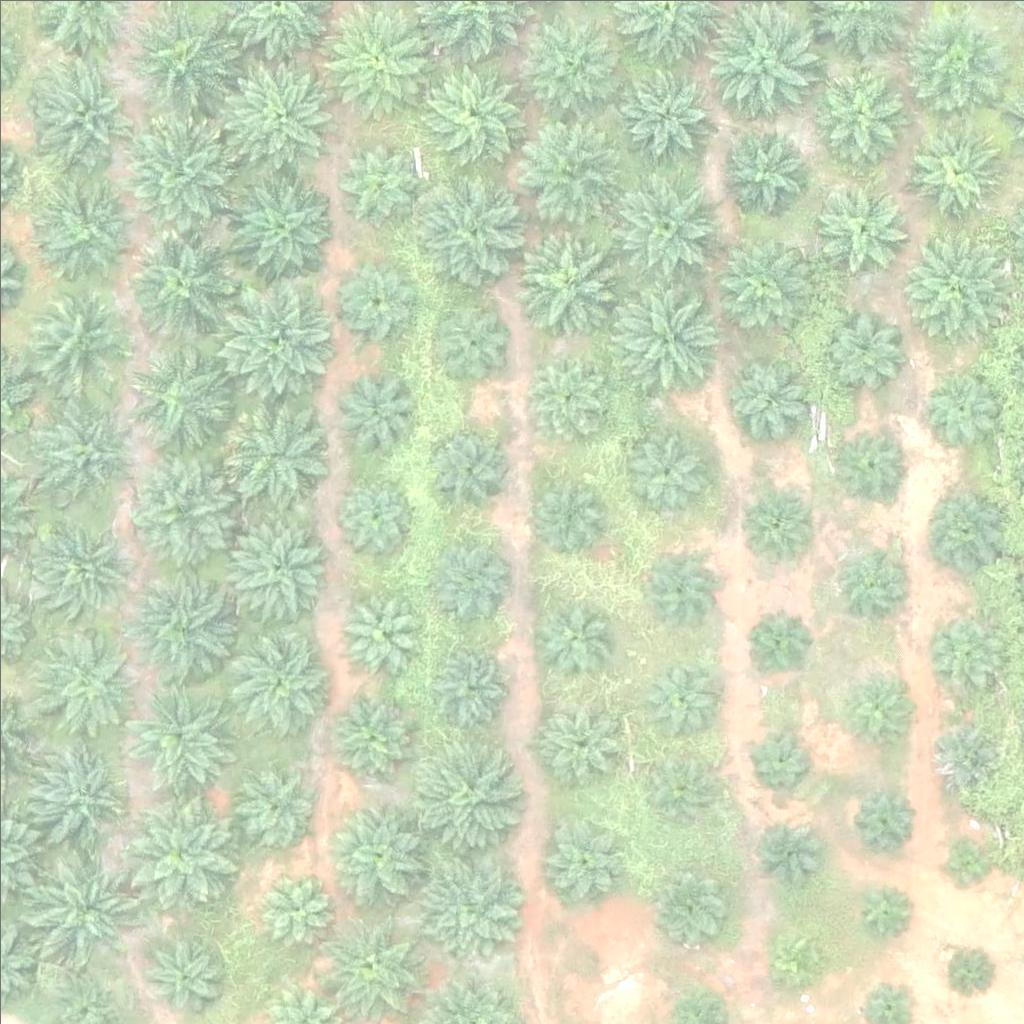Kelapa_Sawit: (11, 851, 136, 976), (408, 845, 521, 959), (402, 738, 515, 852), (121, 112, 234, 226), (221, 281, 334, 395), (121, 799, 234, 912), (116, 680, 229, 793), (122, 571, 235, 684), (222, 170, 335, 283), (224, 55, 337, 168), (512, 114, 625, 227), (611, 281, 724, 394), (611, 168, 724, 281), (123, 452, 235, 566), (28, 54, 140, 168), (120, 223, 232, 337), (220, 394, 332, 508), (23, 284, 135, 397), (322, 3, 434, 116), (415, 174, 527, 287), (413, 57, 525, 170), (514, 221, 626, 334), (322, 920, 422, 1021), (21, 745, 121, 846), (31, 630, 131, 731), (31, 509, 131, 610), (709, 233, 809, 334), (902, 236, 1002, 337), (322, 801, 422, 901), (225, 634, 325, 734), (222, 520, 322, 620), (28, 399, 128, 499), (31, 177, 131, 277), (132, 348, 232, 448), (804, 61, 904, 161), (900, 17, 1000, 117), (617, 423, 705, 512), (918, 484, 1006, 572), (521, 352, 609, 440), (716, 125, 804, 213), (821, 307, 909, 395), (817, 181, 905, 269), (138, 927, 225, 1016), (727, 353, 814, 442), (333, 363, 420, 451), (327, 469, 414, 557), (418, 424, 505, 512), (329, 260, 416, 348), (334, 140, 421, 228), (525, 15, 612, 103), (622, 65, 709, 153), (912, 128, 999, 216), (639, 753, 714, 829), (655, 863, 730, 939), (541, 702, 616, 778), (546, 822, 621, 898), (426, 649, 501, 725), (428, 535, 503, 611), (334, 696, 409, 772), (339, 592, 414, 668), (232, 763, 307, 839), (257, 871, 332, 946), (829, 422, 904, 497), (841, 538, 916, 613), (640, 547, 715, 622), (535, 475, 610, 550), (533, 603, 608, 678), (639, 663, 714, 738), (931, 612, 1006, 687), (924, 713, 999, 788), (752, 808, 827, 883), (738, 718, 813, 793), (740, 604, 815, 679), (737, 480, 812, 555), (433, 301, 508, 376), (923, 364, 998, 439), (843, 677, 906, 740), (766, 922, 829, 985), (853, 875, 915, 938), (853, 788, 915, 851), (939, 943, 989, 994), (940, 837, 990, 888)
